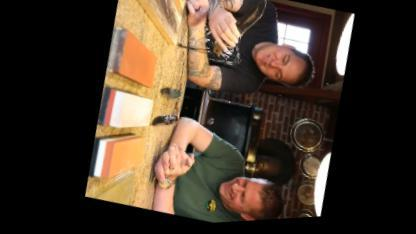knife: (210, 0, 278, 58)
